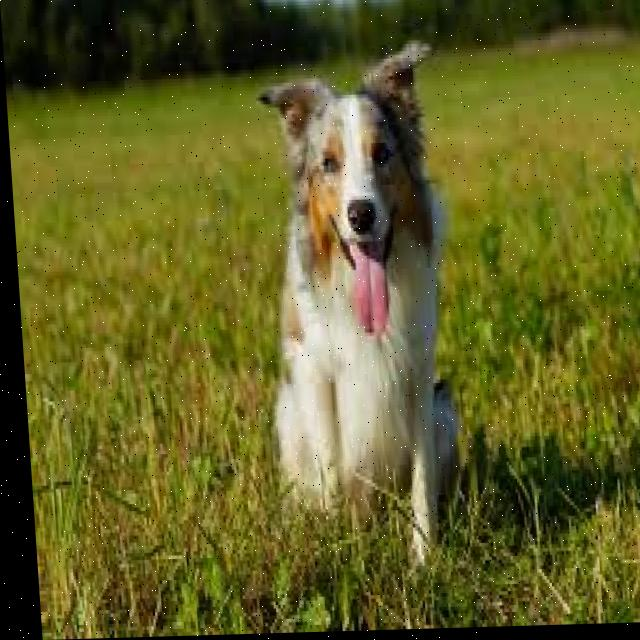ALASKAN_MALAMUTE: (219, 19, 473, 589)
